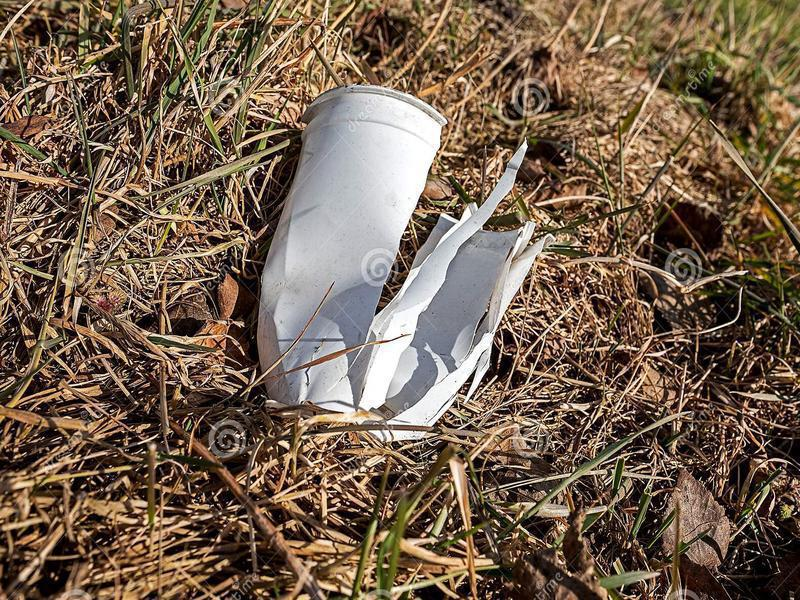cup: (253, 77, 553, 449)
